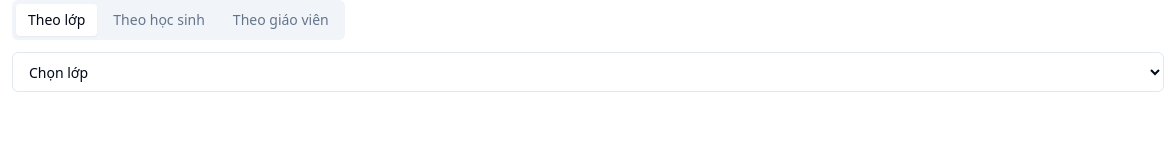
Test: TimetableLookupSection › switches content when another tab is activated
The width and height of the screenshot is (1176, 160).
Expected: the dropdown named "Chọn lớp" is shown, [12,52,1164,92]
Click the tab "Theo giáo viên": (281, 20) [221,4,341,36]
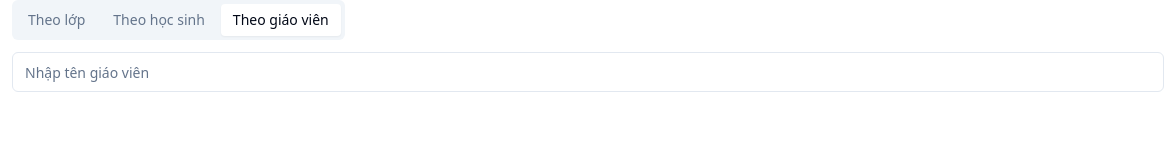
Expected: the dropdown labelled "Chọn lớp" is not shown
Expected: the dropdown named "Tìm giáo viên" is shown, [12,52,1164,92]
